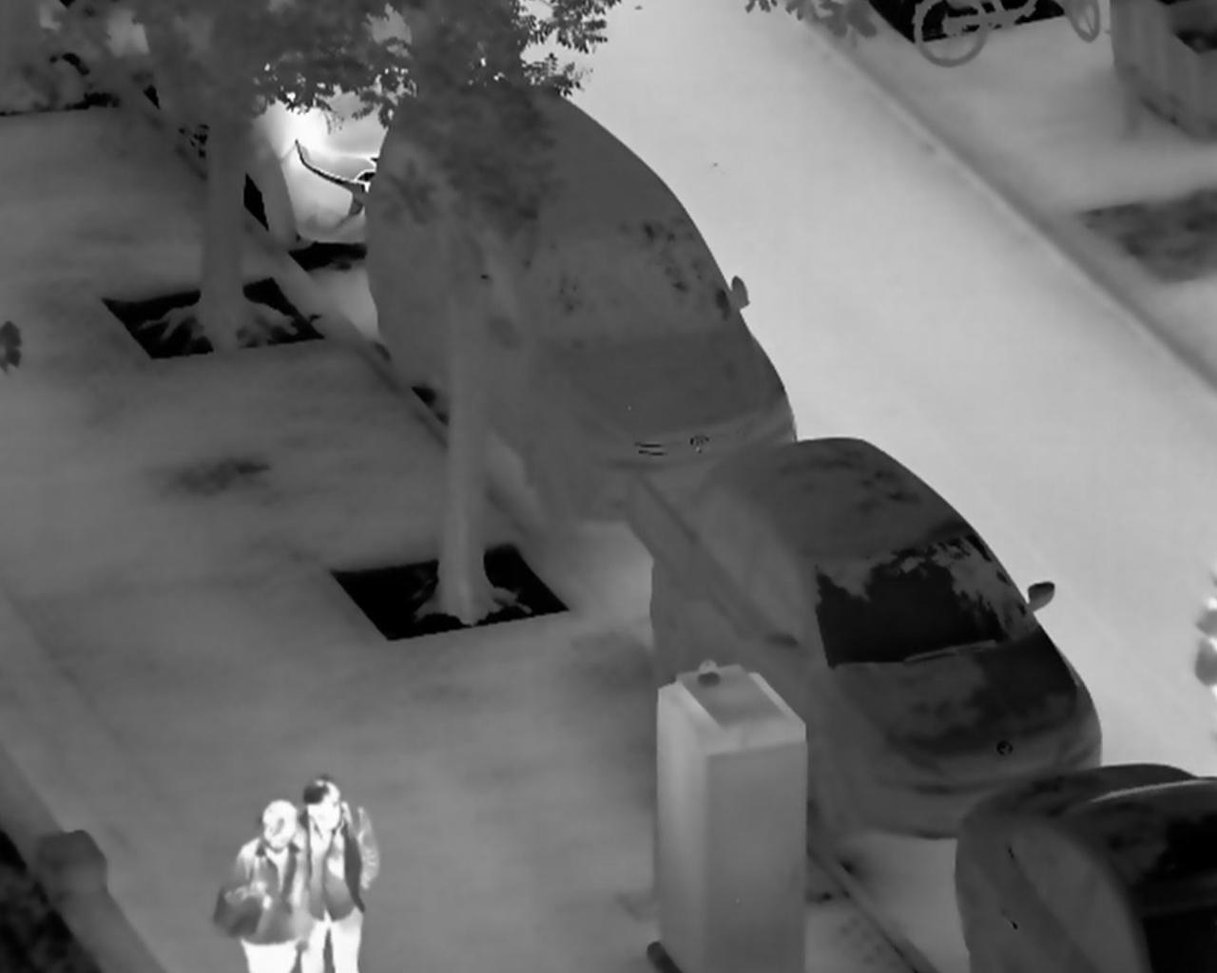person: (208, 795, 310, 973), (299, 775, 380, 973)
